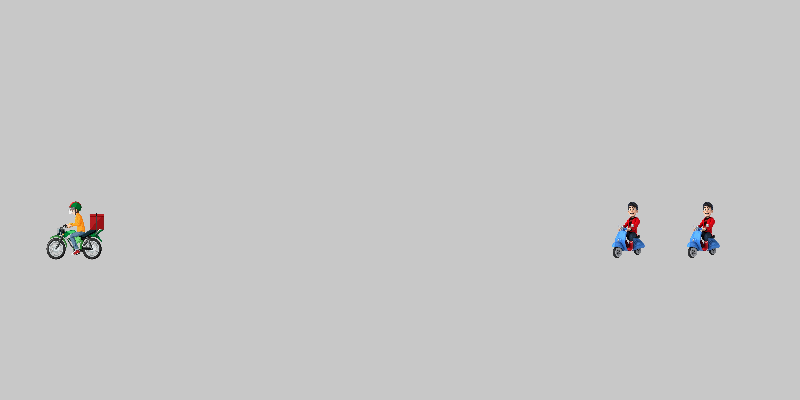helmet: (45, 200, 105, 260)
no_helmet: (600, 200, 660, 260), (675, 200, 735, 260)
